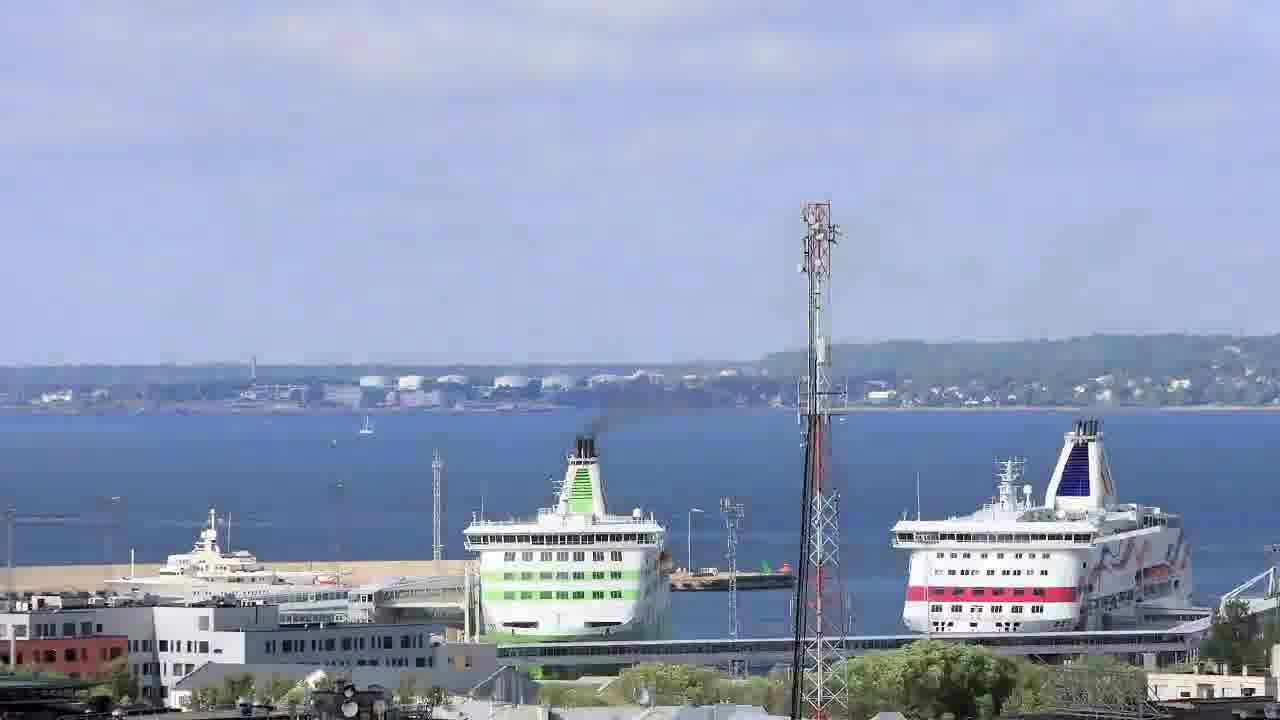type-2: (345, 399, 389, 446)
type-3: (868, 415, 1225, 638), (436, 434, 694, 670), (84, 511, 353, 609)
